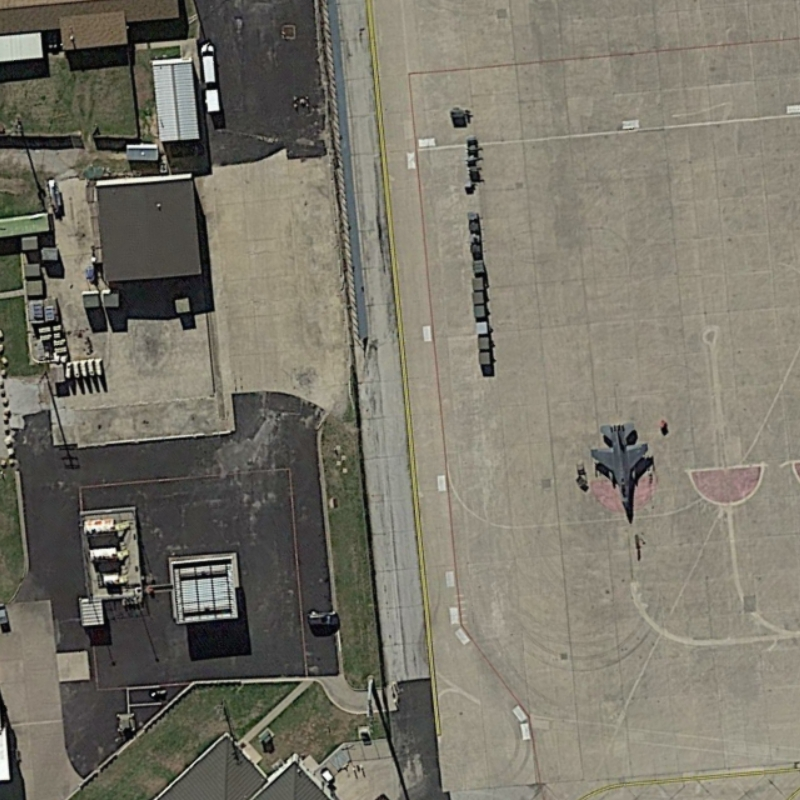A5: (586, 422, 651, 517)
